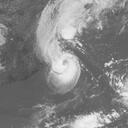cyclone: (42, 39, 81, 94)
